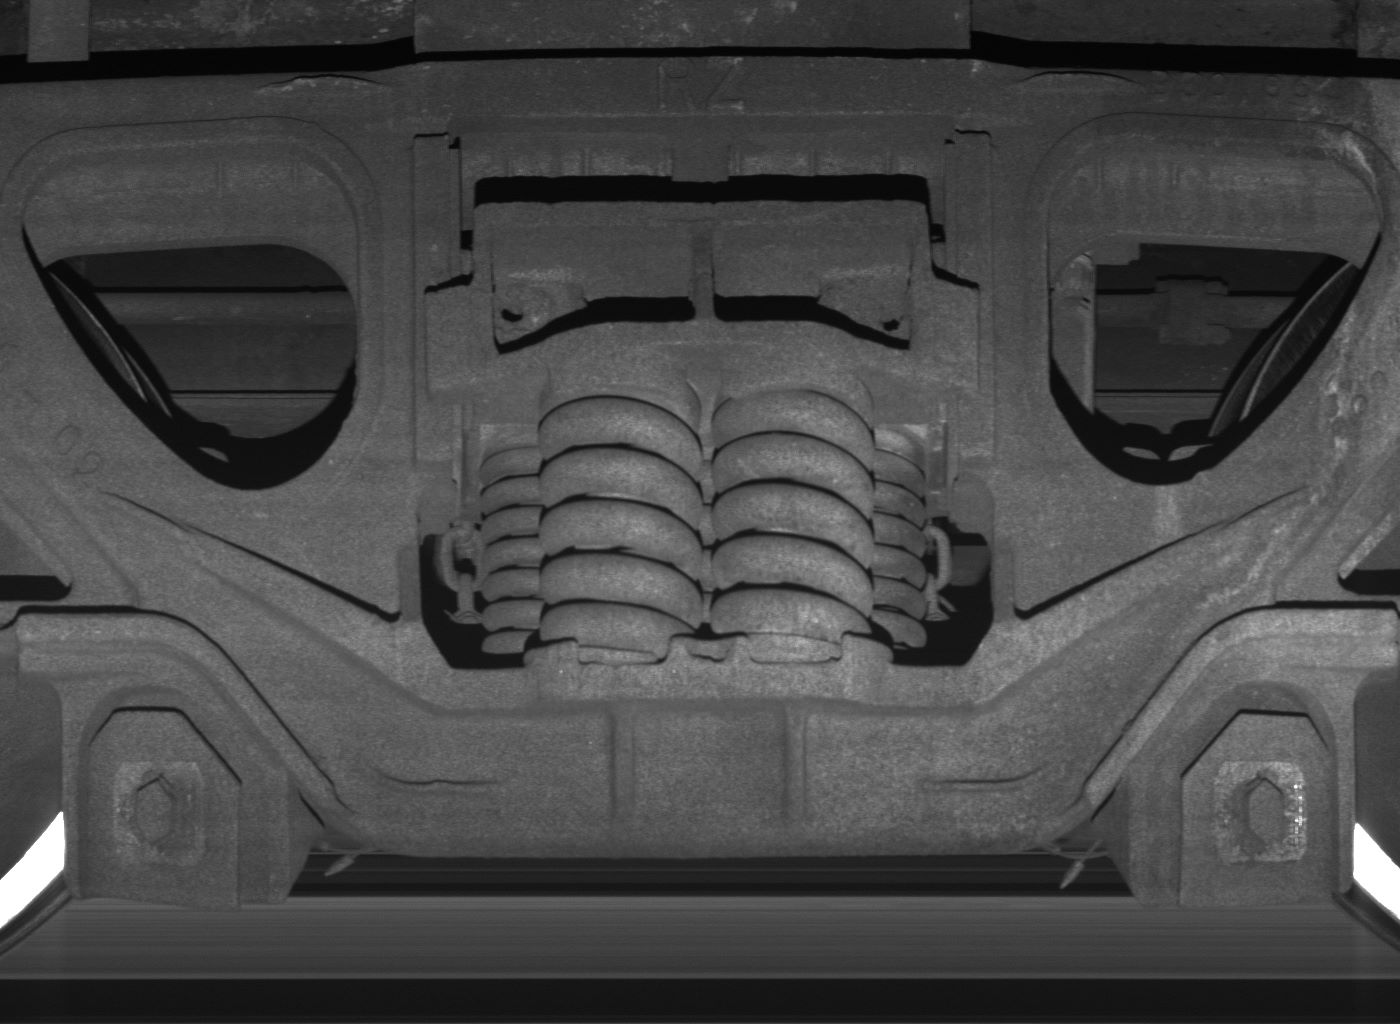normal: (58, 686, 290, 912), (1128, 680, 1355, 906)
